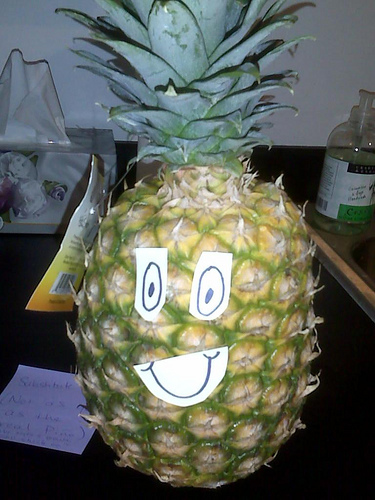pineapple: (50, 0, 327, 491)
